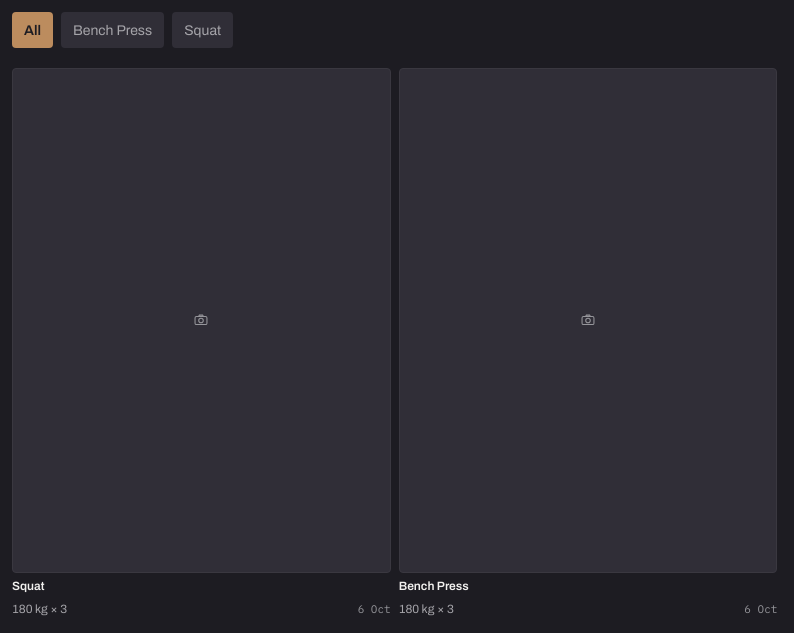
Scenario: the lift filter › says so when a lift has no clips
Click the button "Bench Press" at [113, 30], box x1=61 y1=12 x2=164 y2=48
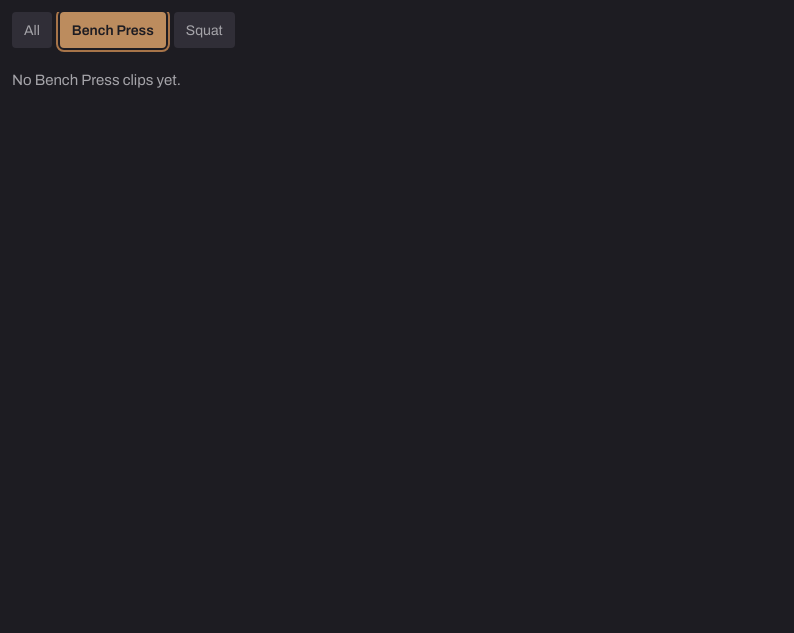
Result: the message reads "No Bench Press clips yet." at x1=12 y1=72 x2=181 y2=88
